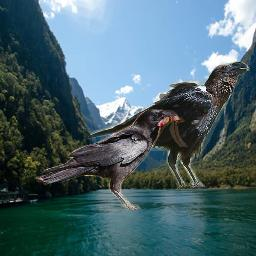Crow: (87, 61, 250, 188), (36, 105, 193, 210)
